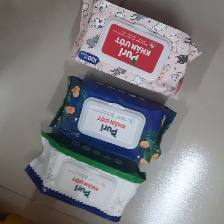Puri Trang: (24, 129, 148, 224)
Puri Xanh: (49, 75, 179, 168)
Puri hong: (69, 1, 202, 101)
